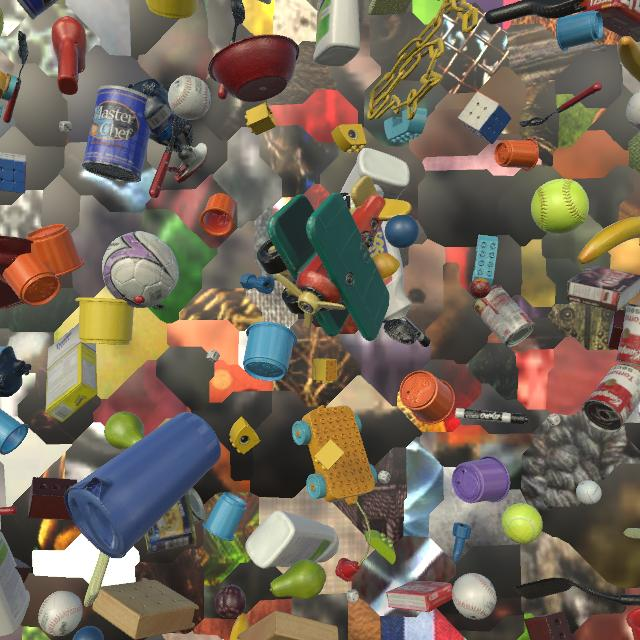ycb_002_master_chef_can: (82, 85, 150, 183), (17, 0, 59, 20)
ycb_003_cracker_box: (583, 0, 640, 42)
ycb_004_sugar_box: (45, 323, 98, 422)
ycb_005_tomato_soup_can: (581, 364, 640, 433), (472, 285, 535, 348), (144, 488, 205, 537), (616, 303, 640, 366)
ycb_008_pudding_box: (567, 265, 640, 312)
ycb_009_gelatin_box: (386, 581, 453, 612)
ycb_010_potted_meat_can: (145, 492, 197, 554)
ycb_011_banana: (578, 217, 640, 264), (617, 36, 640, 82), (230, 613, 249, 640)
ycb_015_peach: (372, 253, 400, 279)
ycb_016_pear: (270, 559, 326, 600), (104, 412, 145, 449)
ycb_018_plum: (215, 585, 246, 618)
